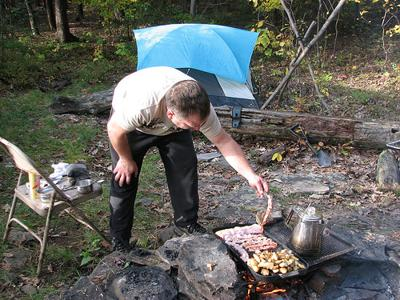person: (107, 66, 271, 249)
